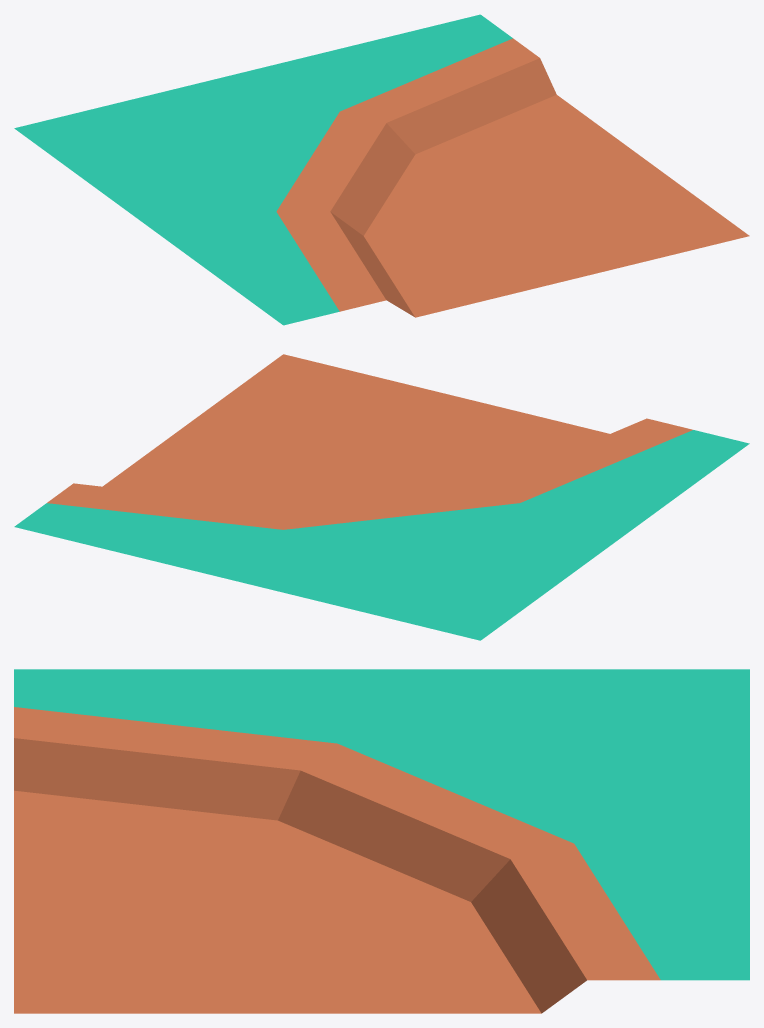
File: ground_pathCorner.glb
The picture shows the model from 3 angles, top to bottom: view 1: azimuth 30°, elevation 25°; view 2: azimuth 150°, elevation 25°; view 3: azimuth 270°, elevation 25°; orthographic projection. The views are drawn at different scales.
Parts seen in each view (by area): view 1: ground_pathCorner; view 2: ground_pathCorner; view 3: ground_pathCorner.
Part boxes in pixels (left/top/right/bottom): ground_pathCorner: left=14, top=14, right=749, bottom=325; ground_pathCorner: left=14, top=354, right=749, bottom=640; ground_pathCorner: left=14, top=669, right=749, bottom=1013.
Size of the model in its own units: 1 by 0.05 by 1.
